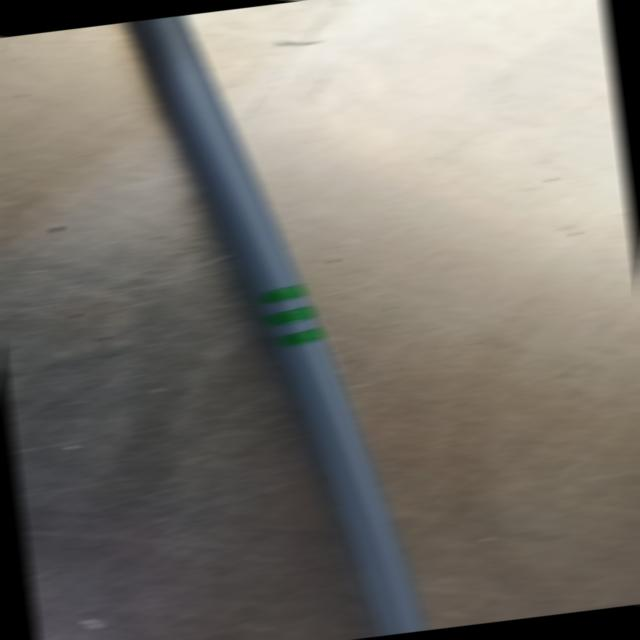green: (250, 282, 327, 351)
